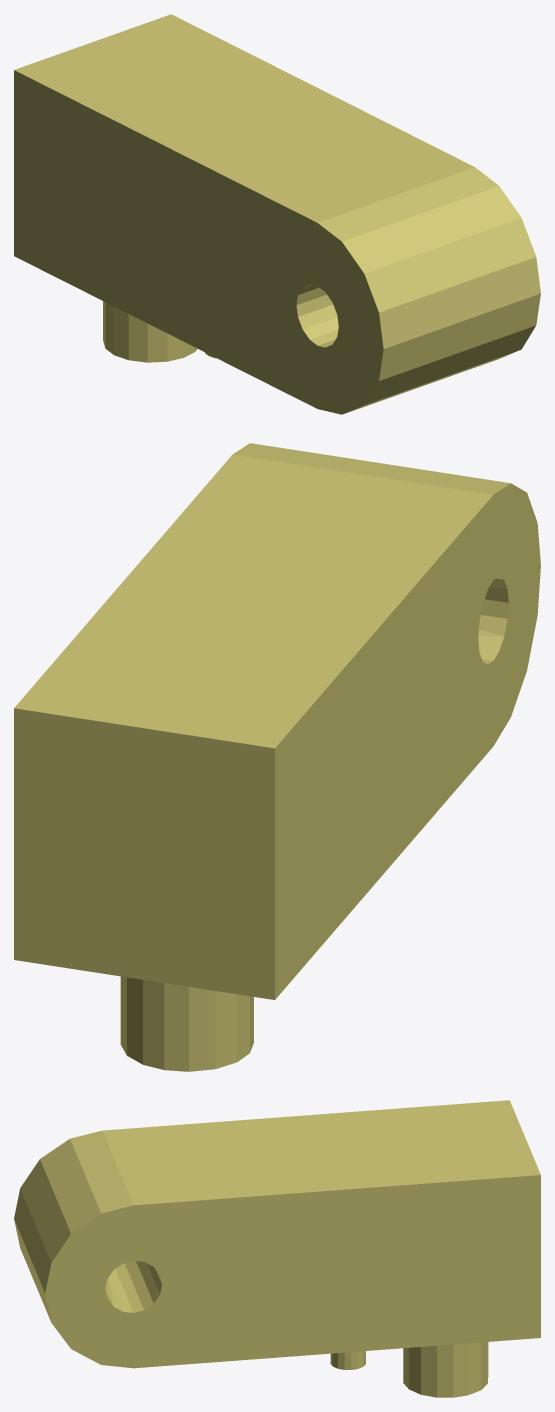
Rendered from LARM_LITTLE1_LINK_mesh.dae.
3 views of the same model, one above another, from view 1: azimuth 30°, elevation 25°; view 2: azimuth 150°, elevation 25°; view 3: azimuth 270°, elevation 25° (orthographic). The views are drawn at different scales.
Parts seen in each view (by area): view 1: LARM_LITTLE1_LINK; view 2: LARM_LITTLE1_LINK; view 3: LARM_LITTLE1_LINK.
Part boxes in pixels (box(x1,y1,x2,y2)): LARM_LITTLE1_LINK: box(14, 14, 540, 414); LARM_LITTLE1_LINK: box(14, 443, 540, 1071); LARM_LITTLE1_LINK: box(14, 1100, 540, 1397).
Size of the model in its own units: 0.0147 by 0.0145 by 0.0293.
